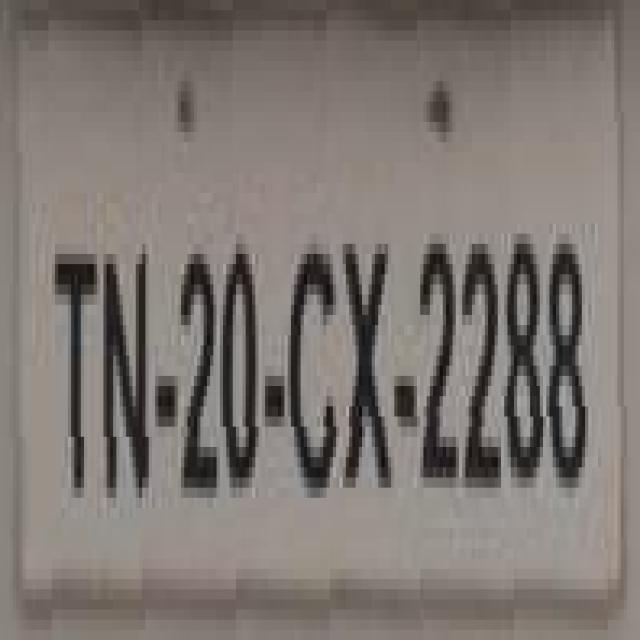license_plate: (6, 41, 640, 589)
